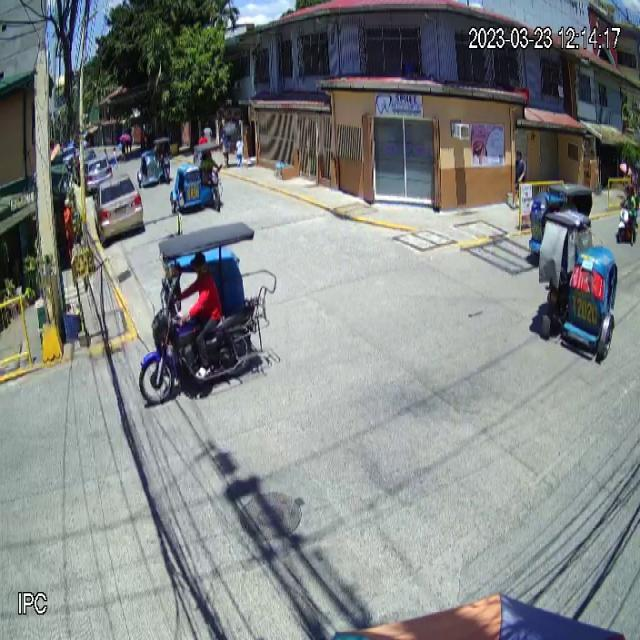Tricycle: (138, 220, 278, 405), (537, 208, 619, 363), (170, 140, 222, 214)
